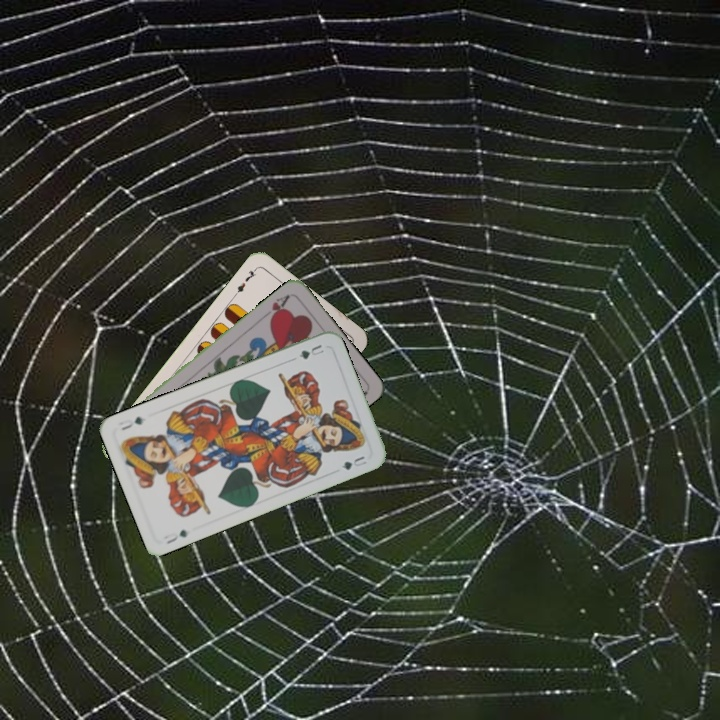E7: (230, 264, 259, 299)
GU: (295, 340, 328, 362), (162, 525, 190, 547)
HA: (259, 290, 292, 324)
